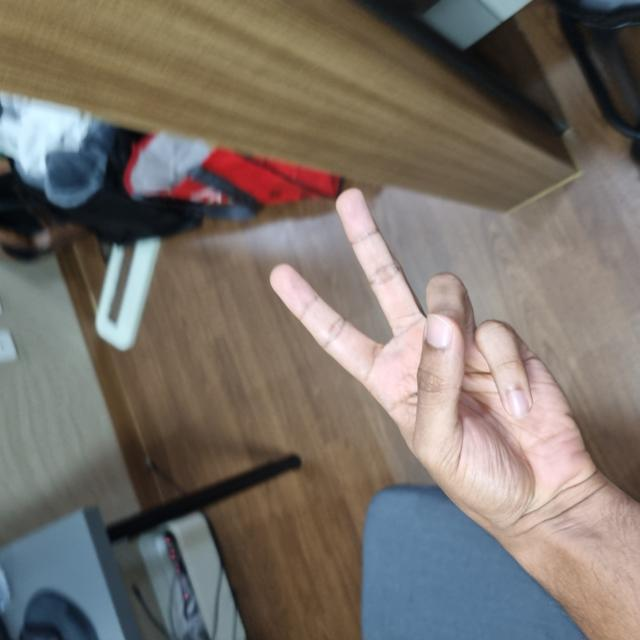Scissors: (114, 272, 446, 598)
